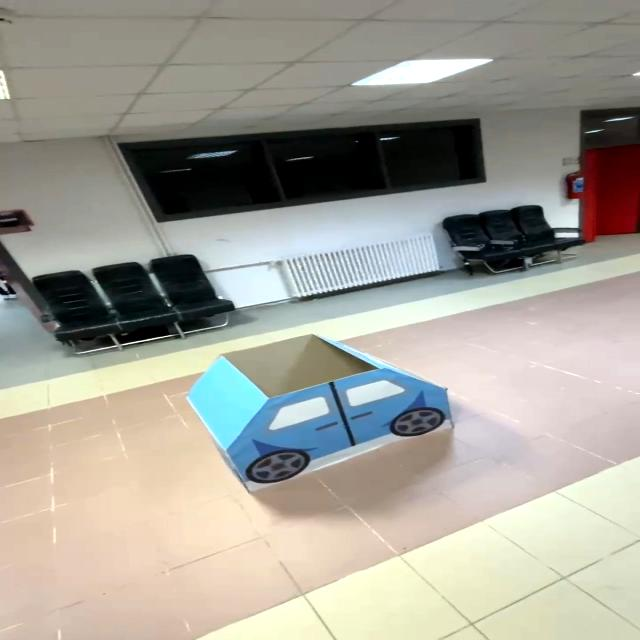blue_car: (146, 326, 486, 511)
